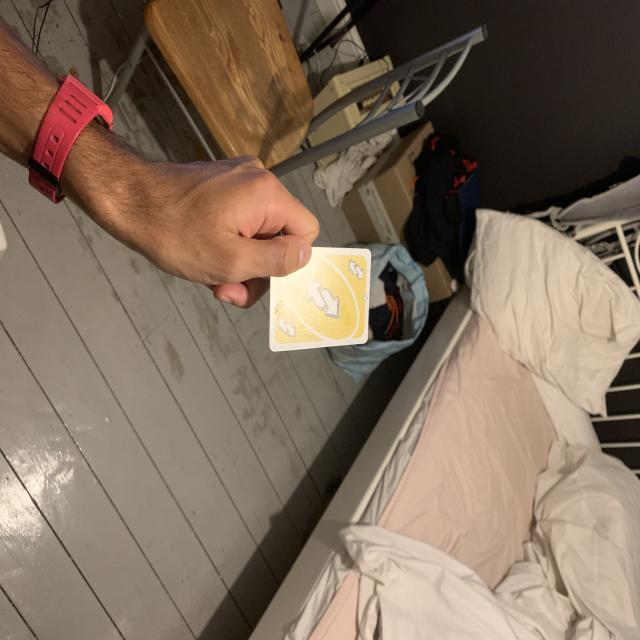lyellowrevers-20: (344, 256, 367, 285)
